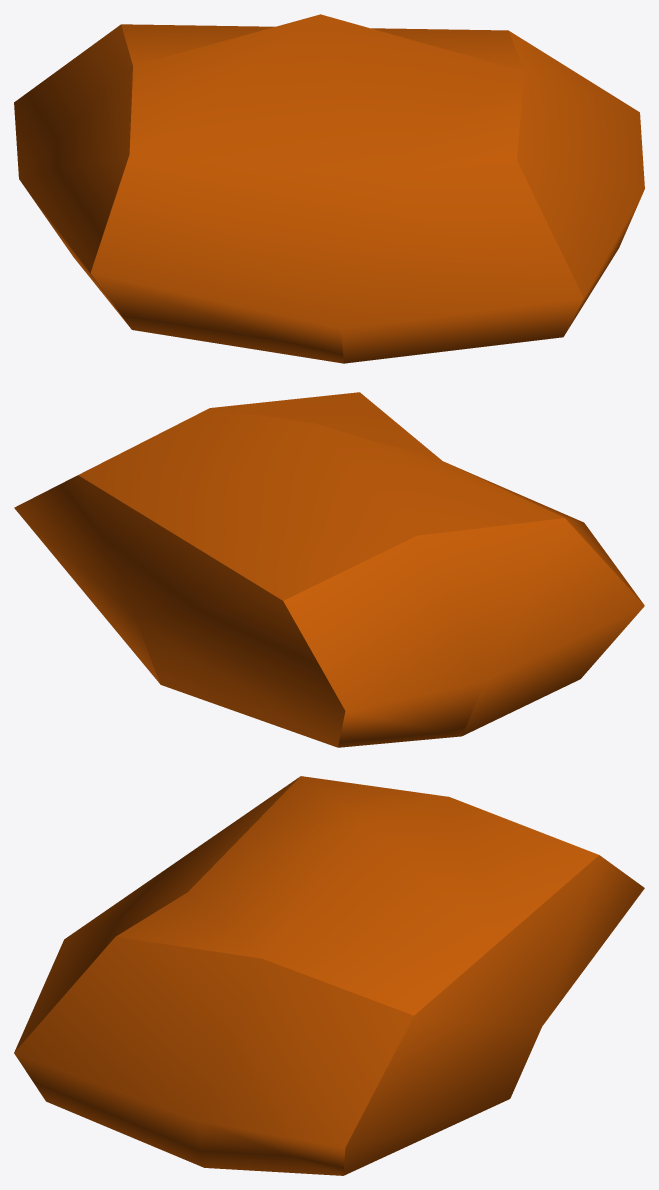
The model's file is small_rock_04.fbx.
The picture shows the model from 3 angles, top to bottom: view 1: azimuth 30°, elevation 25°; view 2: azimuth 150°, elevation 25°; view 3: azimuth 270°, elevation 25°; orthographic projection. The views are drawn at different scales.
Visible parts, largest first — view 1: small_rock04; view 2: small_rock04; view 3: small_rock04.
Boxes of the visible parts, box(x1,y1,x2,y2) form: small_rock04: box(14, 14, 644, 363); small_rock04: box(14, 392, 644, 747); small_rock04: box(14, 776, 644, 1175).
Size of the model in its own units: 0.8961 by 0.3338 by 0.8084.
